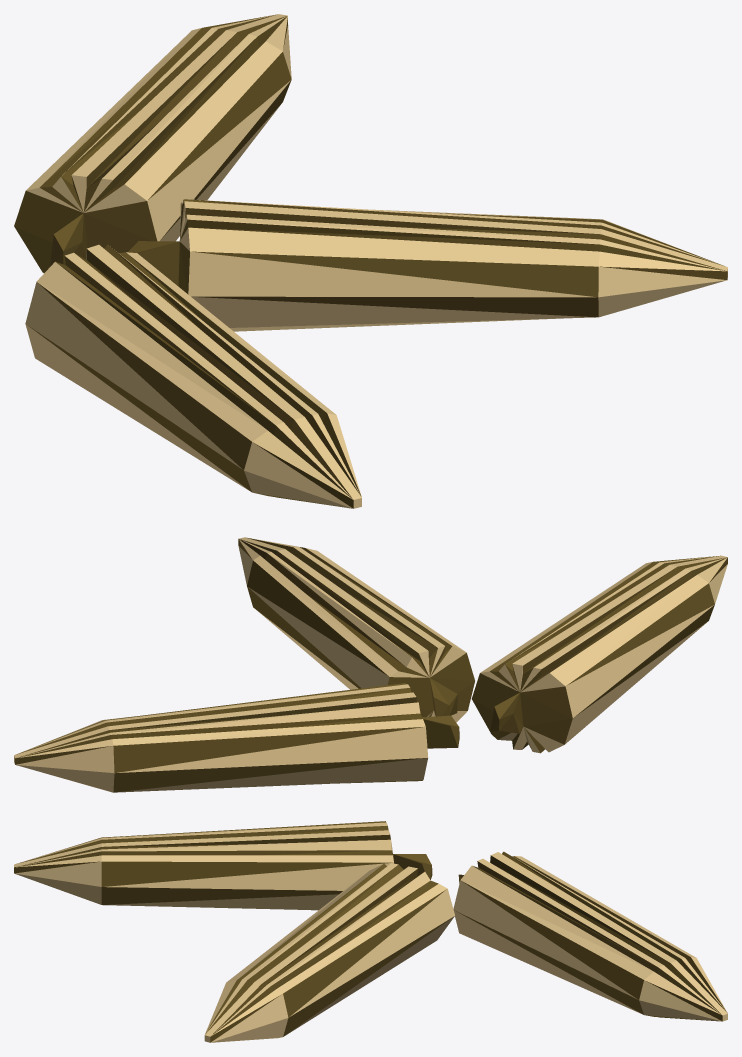
Rendered from daisy seeds.fbx.
3 views of the same model, one above another, from view 1: azimuth 30°, elevation 25°; view 2: azimuth 150°, elevation 25°; view 3: azimuth 270°, elevation 25° (orthographic). The views are drawn at different scales.
Parts seen in each view (by area): view 1: daisy_seeds; view 2: daisy_seeds; view 3: daisy_seeds.
Part boxes in pixels (x1=…): daisy_seeds: x1=14, y1=14, x2=727, y2=508; daisy_seeds: x1=14, y1=537, x2=727, y2=792; daisy_seeds: x1=14, y1=821, x2=727, y2=1042.
Size of the model in its own units: 3.89 by 0.7519 by 6.04.
